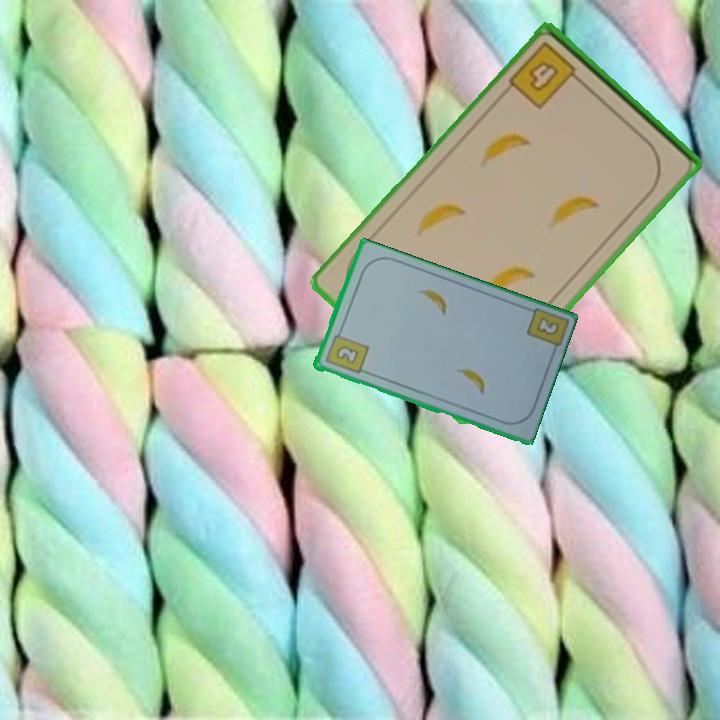2b: (321, 326, 371, 377), (522, 305, 568, 358)
4b: (505, 38, 587, 113)
